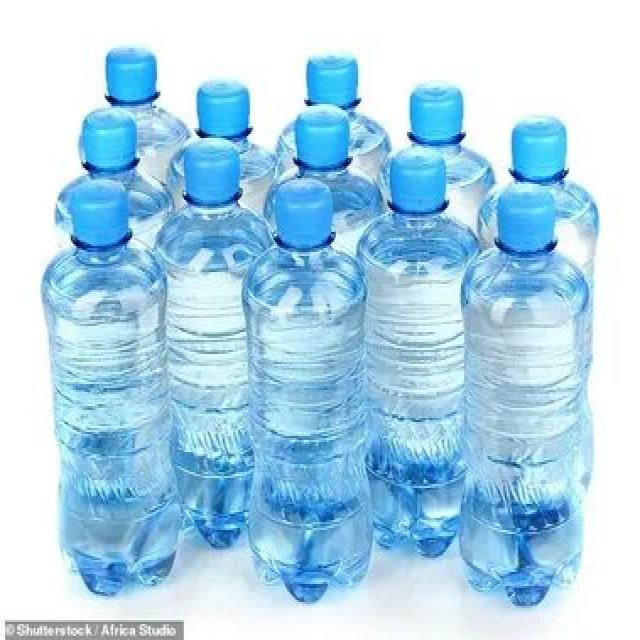blue: (42, 233, 179, 595), (245, 235, 373, 603), (463, 245, 590, 605), (358, 208, 468, 557)
